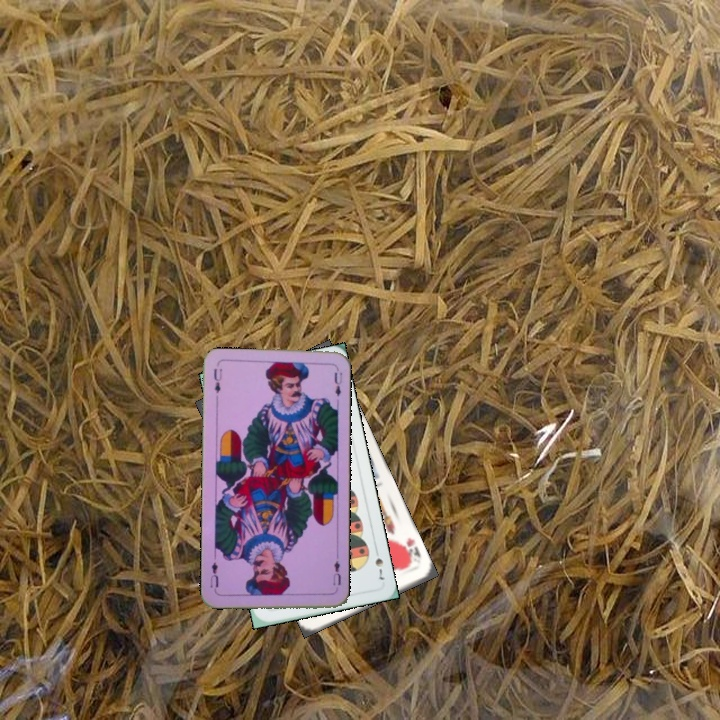EU: (329, 556, 343, 593), (210, 364, 225, 396)
HK: (397, 533, 423, 566)
S7: (371, 554, 387, 583)
